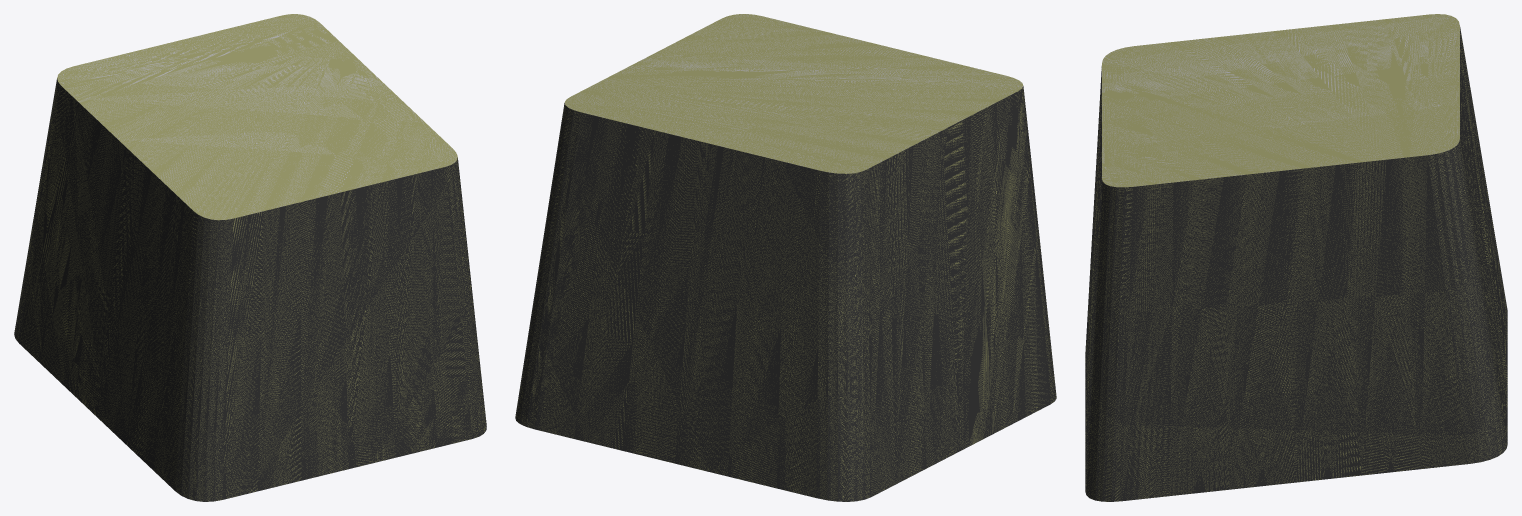
Rendered from original-5.obj.
3 renders of one model, left to right at view 1: azimuth 30°, elevation 25°; view 2: azimuth 150°, elevation 25°; view 3: azimuth 270°, elevation 25°, orthographic. The views are drawn at different scales.
Parts seen in each view (by area): view 1: mesh5/mesh5-geometry#mesh5-geometry; view 2: mesh5/mesh5-geometry#mesh5-geometry; view 3: mesh5/mesh5-geometry#mesh5-geometry.
Part boxes in pixels (left/top/right/bottom): mesh5/mesh5-geometry#mesh5-geometry: left=14, top=14, right=486, bottom=501; mesh5/mesh5-geometry#mesh5-geometry: left=515, top=14, right=1056, bottom=501; mesh5/mesh5-geometry#mesh5-geometry: left=1085, top=14, right=1507, bottom=501.
Size of the model in its own units: 0.0633 by 0.0606 by 0.0681.
